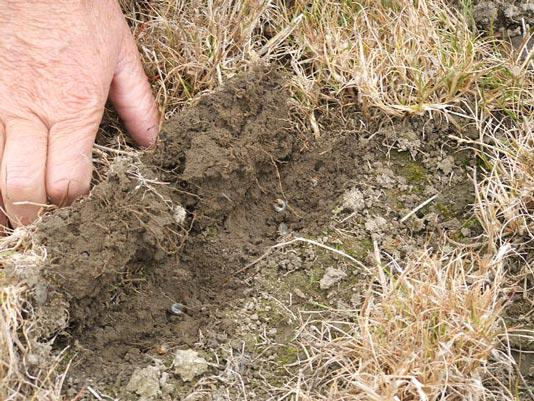grub: (265, 189, 292, 215)
